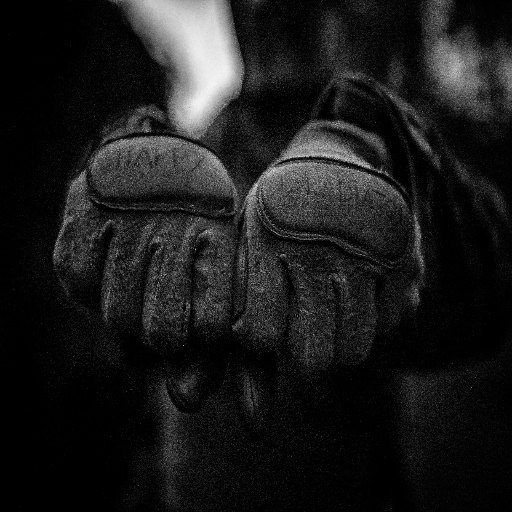hand: (232, 121, 426, 439), (75, 150, 247, 408)
